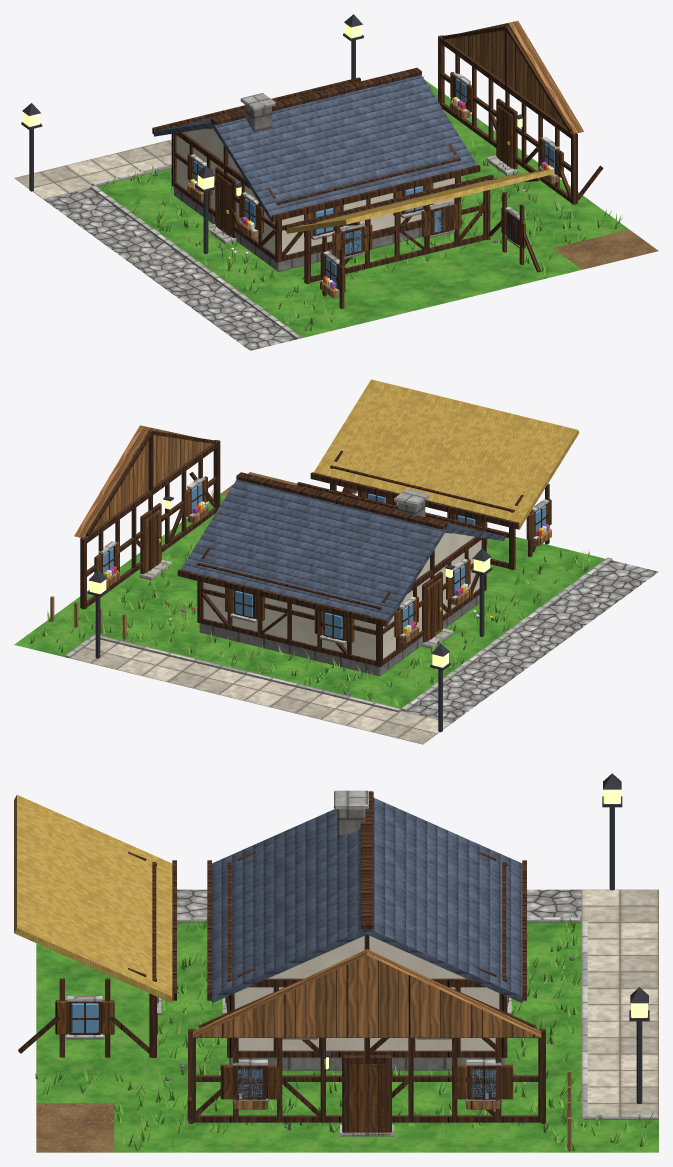
File: chunk_6_12.glb
The picture shows the model from 3 angles, top to bottom: view 1: azimuth 30°, elevation 25°; view 2: azimuth 150°, elevation 25°; view 3: azimuth 270°, elevation 25°; orthographic projection. The views are drawn at different scales.
Visible parts, largest first — view 1: chunk_6_12; view 2: chunk_6_12; view 3: chunk_6_12.
Boxes of the visible parts, x1,y1,x2,y2 form: chunk_6_12: (14,14,658,350); chunk_6_12: (14,379,658,744); chunk_6_12: (14,773,658,1152).
Size of the model in its own units: 16.36 by 5.37 by 16.57.
24 materials, 15 textured.
